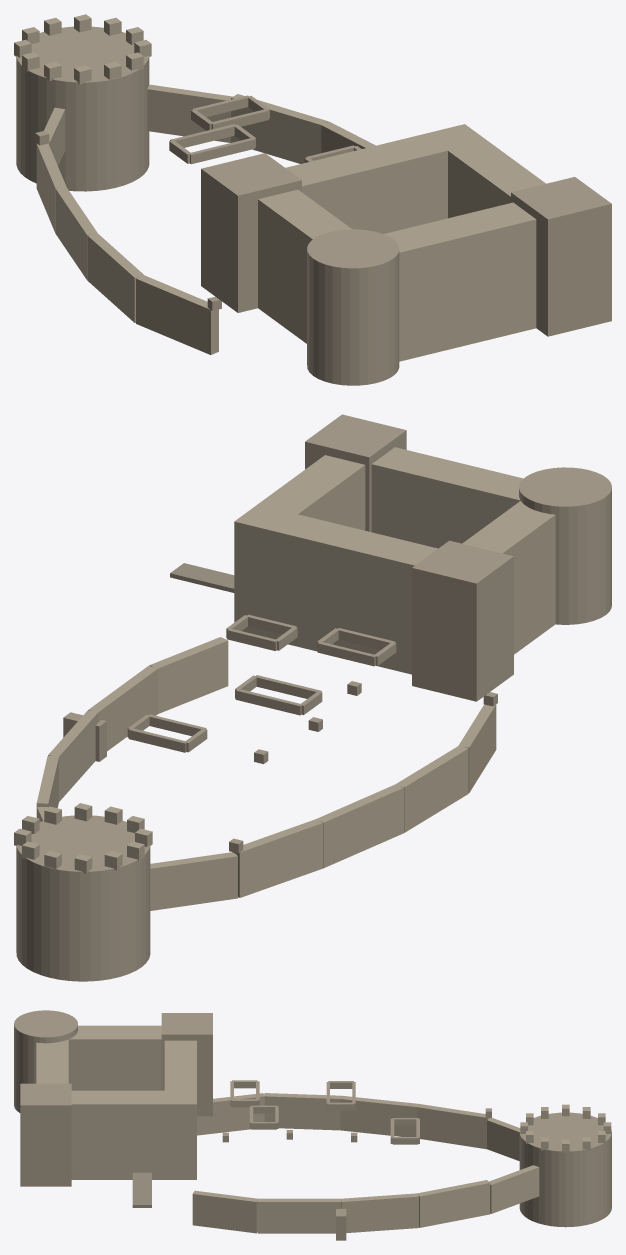
The model's file is castle.glb.
3 renders of one model, top to bottom at view 1: azimuth 30°, elevation 25°; view 2: azimuth 150°, elevation 25°; view 3: azimuth 270°, elevation 25°, orthographic. The views are drawn at different scales.
Visible parts, largest first — view 1: world; view 2: world; view 3: world.
Boxes of the visible parts, <box> form: world: <box>14,14,611,385</box>; world: <box>14,414,611,981</box>; world: <box>14,1010,611,1240</box>.
Size of the model in its own units: 47.12 by 25.54 by 93.2.
